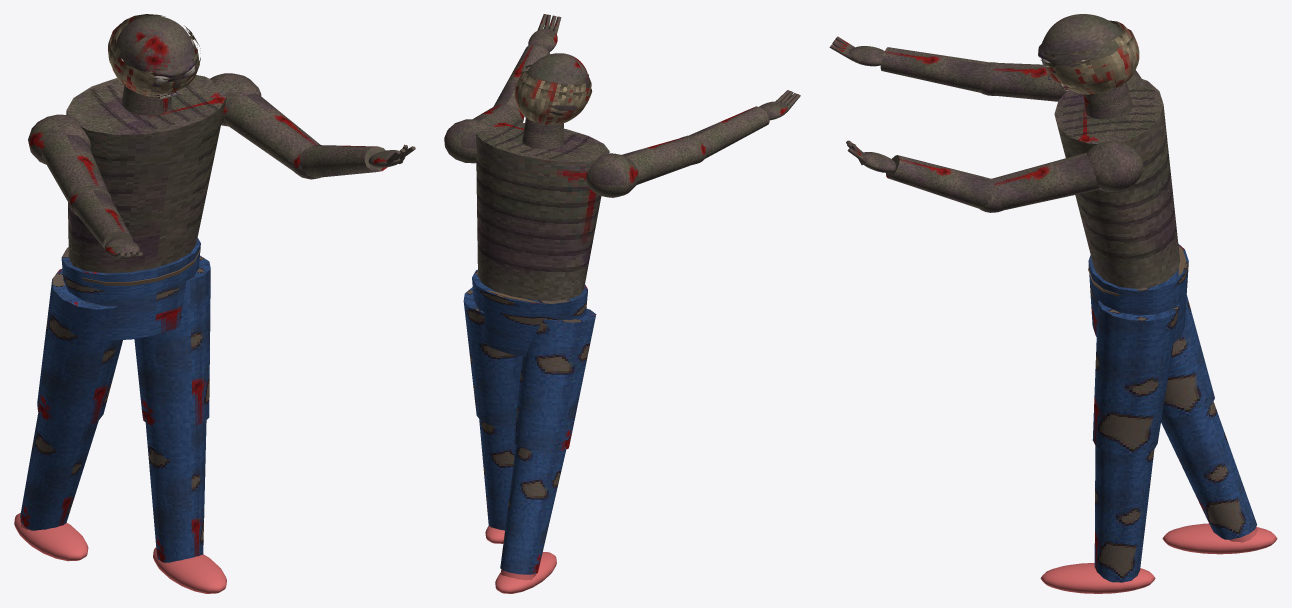
The model's file is Zombie_026.glb.
The picture shows the model from 3 angles, left to right: view 1: azimuth 30°, elevation 25°; view 2: azimuth 150°, elevation 25°; view 3: azimuth 270°, elevation 25°; orthographic projection. The views are drawn at different scales.
Visible parts, largest first — view 1: Zombie_026, object 16, object 10, object 3, object 42, object 43; view 2: Zombie_026, object 43, object 3, object 16, object 42, object 10, object 11; view 3: Zombie_026, object 16, object 10, object 3, object 43, object 42, object 4.
Part boxes in pixels (box(x1,y1,x2,y2)): Zombie_026: box(14, 73, 320, 593); object 16: box(116, 15, 196, 94); object 10: box(299, 145, 386, 177); object 3: box(73, 189, 132, 248); object 42: box(110, 14, 198, 94); object 43: box(108, 23, 200, 97); Zombie_026: box(444, 104, 699, 593); object 43: box(514, 71, 592, 124); object 3: box(689, 106, 769, 158); object 16: box(526, 53, 589, 115); object 42: box(517, 64, 591, 119); object 10: box(494, 45, 549, 108); object 11: box(528, 28, 557, 51); Zombie_026: box(990, 63, 1277, 593); object 16: box(1038, 14, 1122, 85); object 10: box(886, 155, 994, 208); object 3: box(880, 47, 988, 92); object 43: box(1039, 28, 1139, 94); object 42: box(1040, 20, 1131, 89); object 4: box(849, 46, 884, 66).
Size of the model in its own units: 0.9184 by 1.67 by 1.23.
16 materials, 6 textured.
